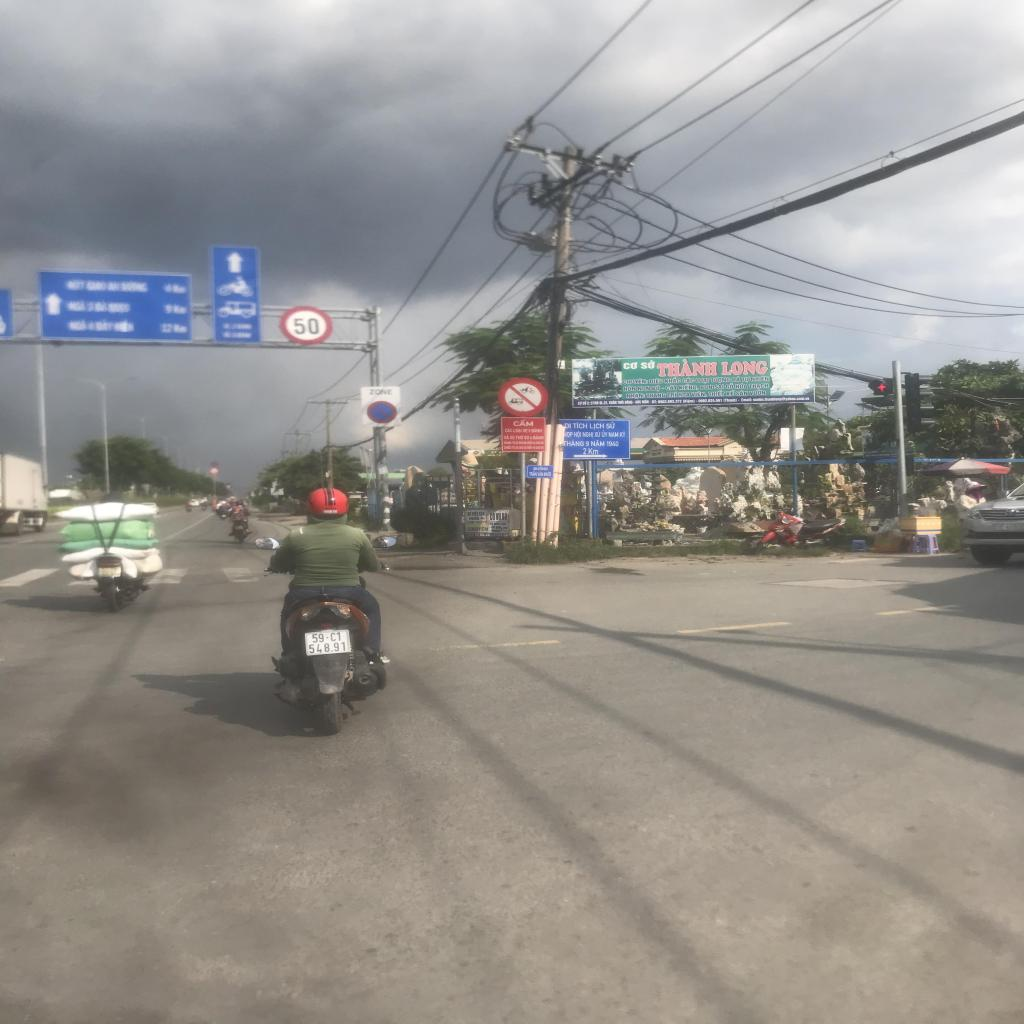cam_cac_loai_xe_3_banh: (497, 377, 550, 417)
cam_do_xe: (367, 401, 397, 423)
khac: (38, 272, 192, 341), (211, 245, 257, 343)
toc_do_toi_da_50: (279, 306, 333, 344)
